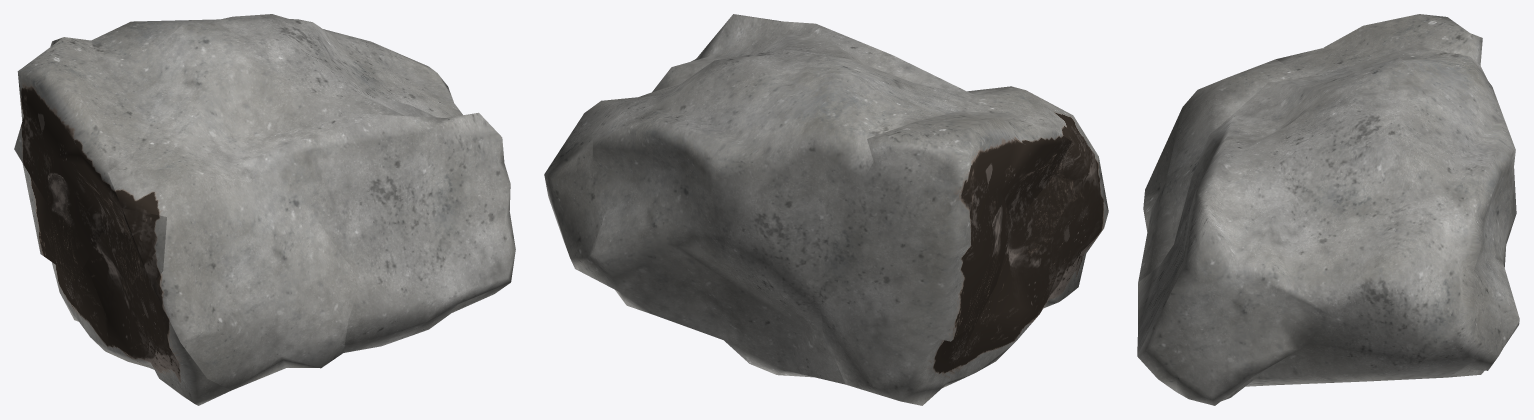
The model's file is Broken flint new MESH.fbx.
The picture shows the model from 3 angles, left to right: view 1: azimuth 30°, elevation 25°; view 2: azimuth 150°, elevation 25°; view 3: azimuth 270°, elevation 25°; orthographic projection. The views are drawn at different scales.
Visible parts, largest first — view 1: Full, Part_3, Part_2, Part_1; view 2: Full, Part_2, Part_1, Part_3; view 3: Full, Part_3, Part_2.
Part boxes in pixels (box(x1,y1,x2,y2)): Full: box(91, 14, 515, 352); Part_3: box(108, 122, 362, 390); Part_2: box(14, 37, 151, 321); Part_1: box(74, 232, 230, 405); Full: box(544, 14, 984, 384); Part_2: box(820, 111, 1071, 405); Part_1: box(942, 177, 1108, 388); Part_3: box(958, 86, 1108, 210); Full: box(1137, 46, 1519, 405); Part_3: box(1138, 59, 1321, 282); Part_2: box(1276, 14, 1482, 74).
Size of the model in its own units: 9.39 by 6.53 by 7.78.
